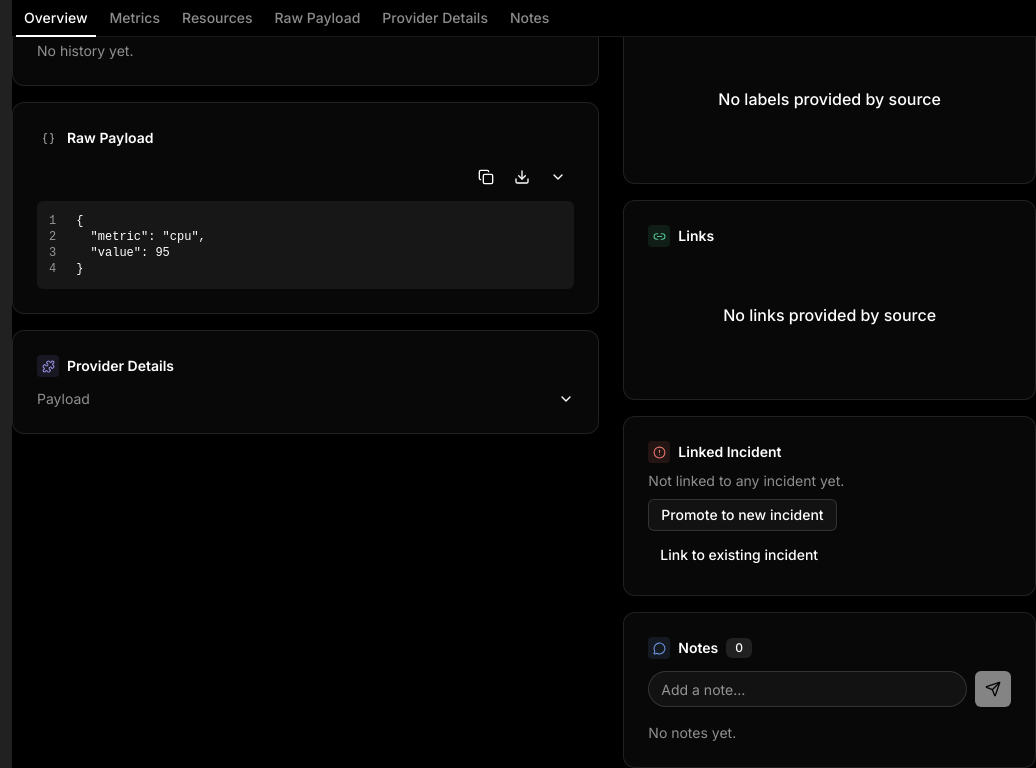
Test: AlertDetailPage — provider metadata › renders a JSON field collapsed, expandable
(page scrolled)
Expected: the text "{\"a\":1}" is not shown
Click the text "Payload".
click(63, 399)  # box [37, 389, 90, 409]
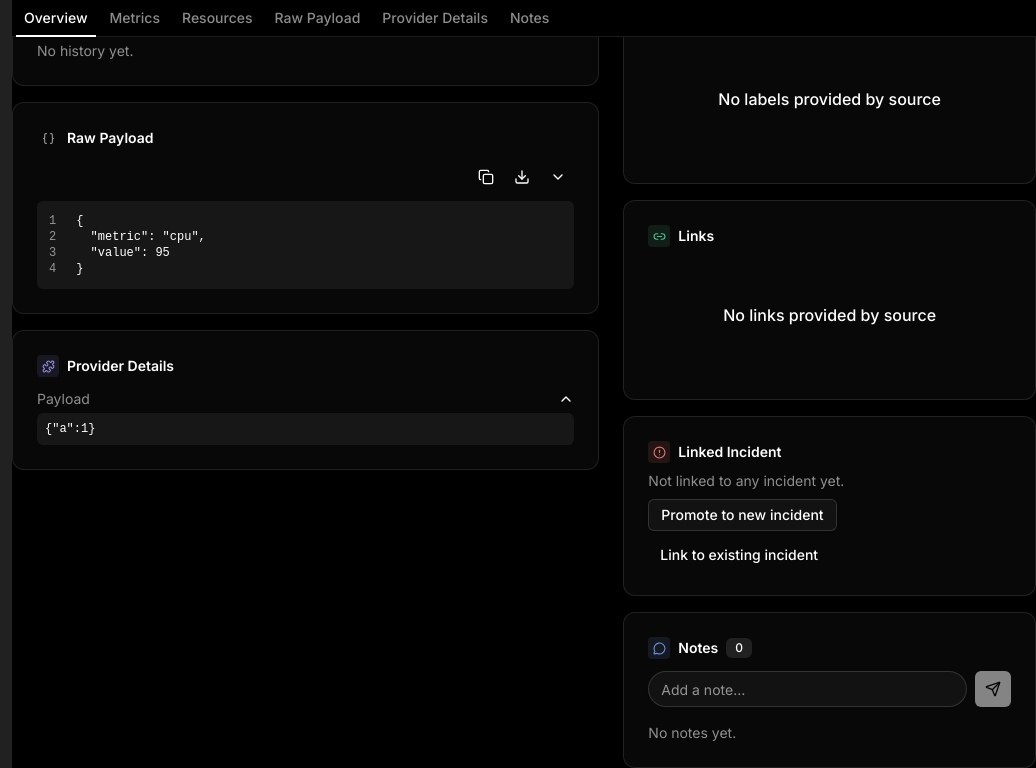
Now the text "{\"a\":1}" is shown, box [37, 413, 574, 445]
